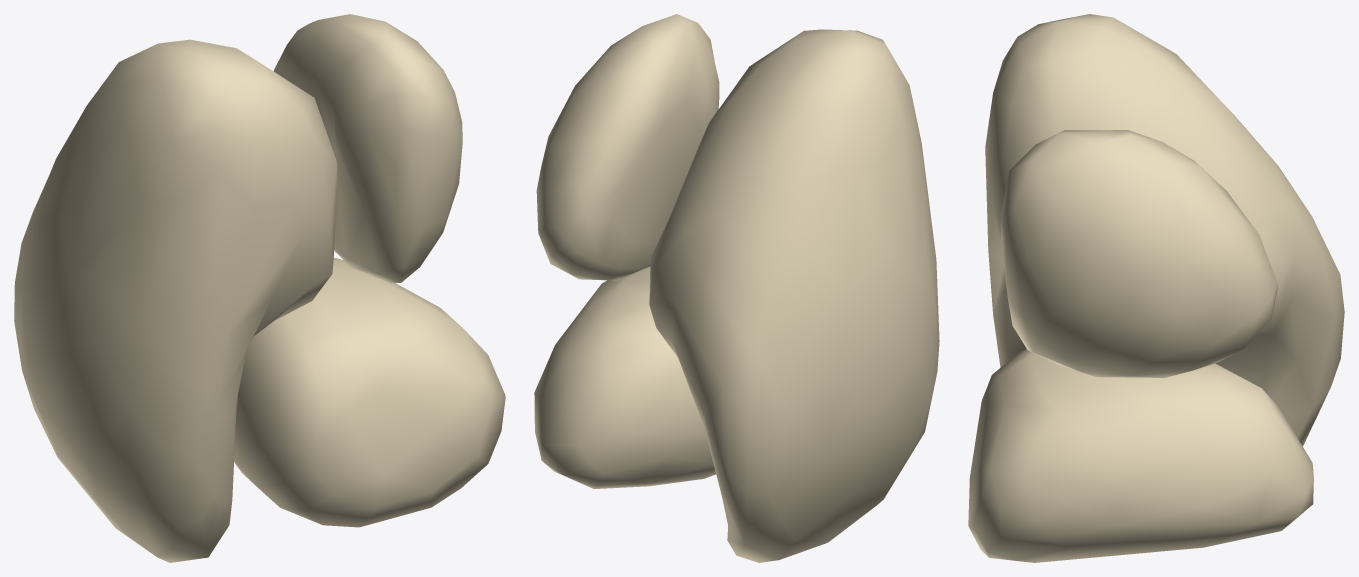
File: esqueleto-posterior-cells-of-ethmoid-bone-l.glb
3 renders of one model, left to right at view 1: azimuth 30°, elevation 25°; view 2: azimuth 150°, elevation 25°; view 3: azimuth 270°, elevation 25°, orthographic. The views are drawn at different scales.
Visible parts, largest first — view 1: Posterior cells of ethmoid bone.l; view 2: Posterior cells of ethmoid bone.l; view 3: Posterior cells of ethmoid bone.l.
Boxes of the visible parts, <box> form: Posterior cells of ethmoid bone.l: <box>14,14,505,562</box>; Posterior cells of ethmoid bone.l: <box>534,14,939,562</box>; Posterior cells of ethmoid bone.l: <box>968,14,1344,562</box>.
Size of the model in its own units: 0.00956 by 0.0123 by 0.00843.
